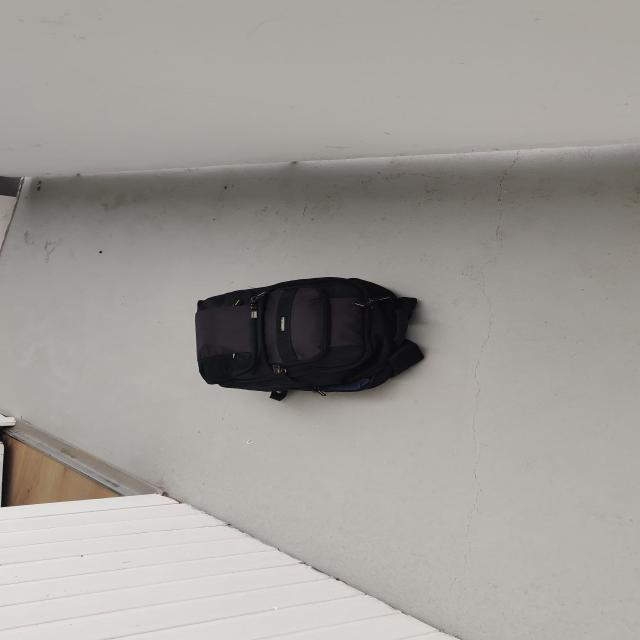backpack: (183, 271, 433, 399)
